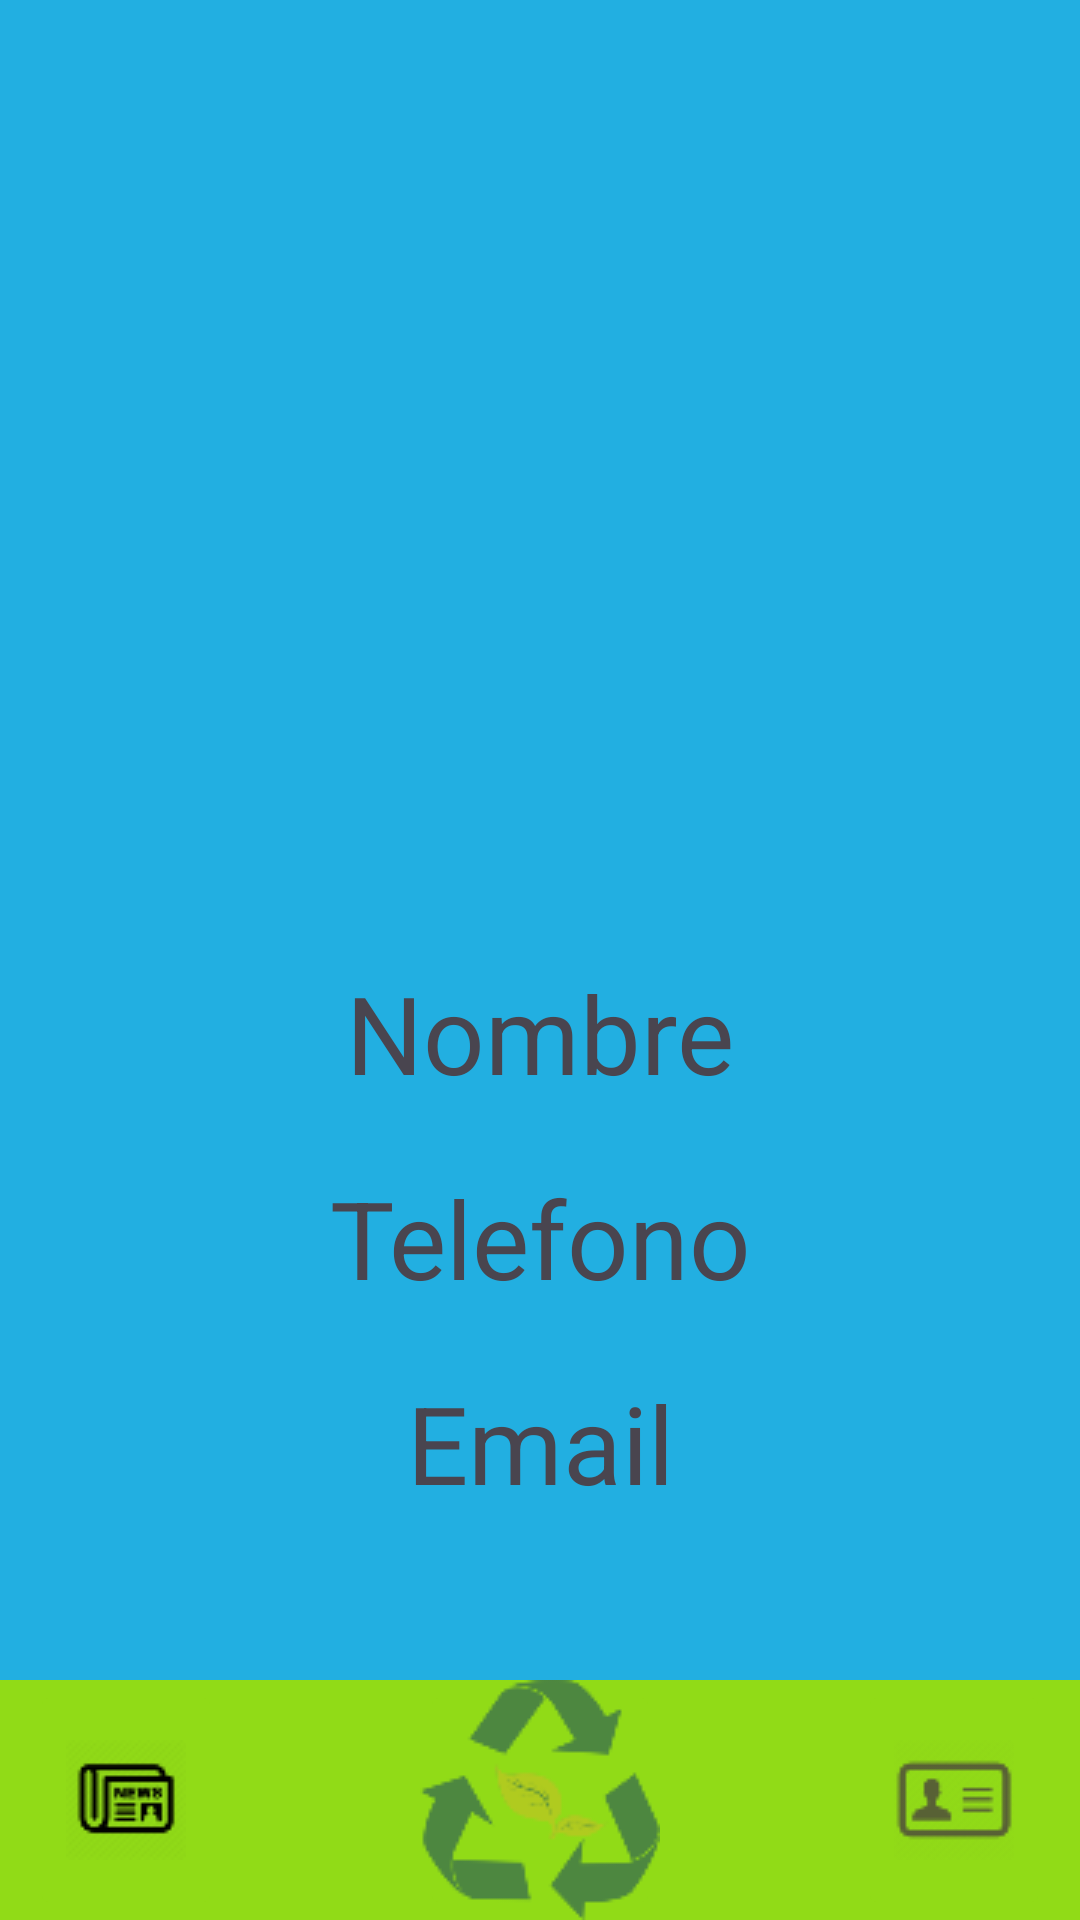

Point at icon controls on the screen. Image size 1080*1920, points as [x,y].
perfil: [954,1800]
